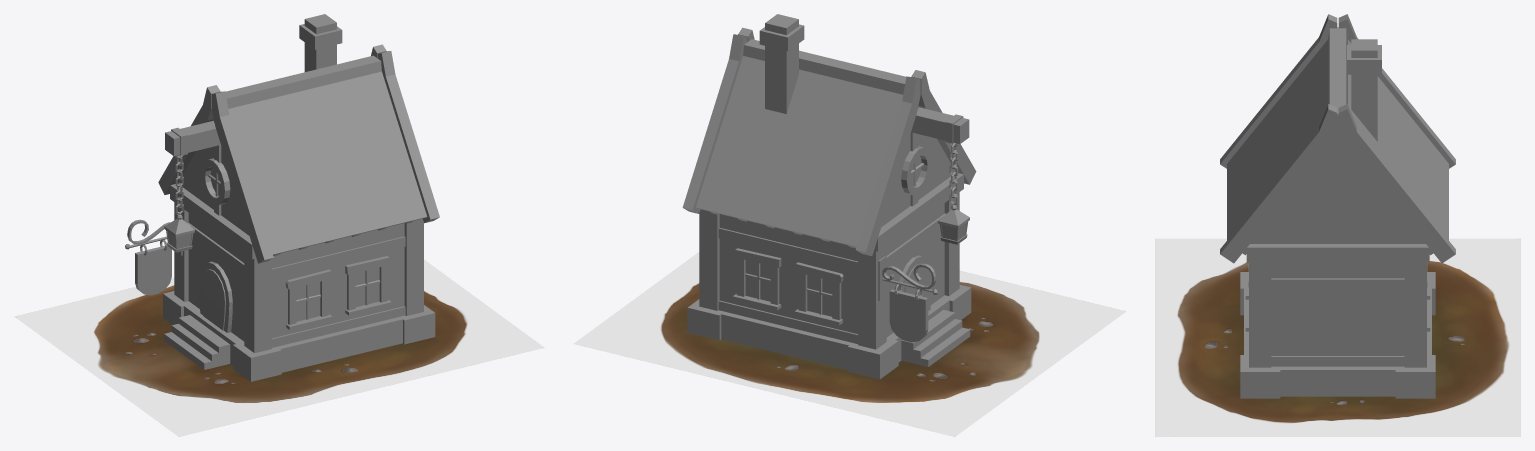
File: Low_poly_house.obj
3 views of the same model, side by side, from view 1: azimuth 30°, elevation 25°; view 2: azimuth 150°, elevation 25°; view 3: azimuth 270°, elevation 25° (orthographic). The views are drawn at different scales.
Visible parts, largest first — view 1: ground, 03_krisha, 00_steni, 32_fundament, 02_stolby_krisha, 01_stolbi, 15_balki_goriz_2, 14_balki_goriz, 31_lestnica, 04_krisha_bok, 25_viveska, 17_rama_okno_goriz (+8 smaller); view 2: ground, 03_krisha, 00_steni, 32_fundament, 02_stolby_krisha, 01_stolbi, 15_balki_goriz_2, 14_balki_goriz, 08_truba, 31_lestnica, 04_krisha_bok, 25_viveska (+7 smaller); view 3: ground, 03_krisha, 00_steni, 02_stolby_krisha, 04_krisha_bok, 32_fundament, 14_balki_goriz, 01_stolbi, 08_truba, 09_truba_1, 17_rama_okno_goriz.
Part boxes in pixels (box(x1,y1,x2,y2)): ground: box(14, 259, 544, 436); 03_krisha: box(225, 55, 427, 254); 00_steni: box(188, 213, 404, 341); 32_fundament: box(163, 291, 435, 381); 02_stolby_krisha: box(158, 44, 439, 263); 01_stolbi: box(174, 202, 423, 353); 15_balki_goriz_2: box(272, 236, 405, 347); 14_balki_goriz: box(170, 184, 256, 274); 31_lestnica: box(164, 315, 230, 369); 04_krisha_bok: box(178, 146, 249, 235); 25_viveska: box(135, 245, 171, 295); 17_rama_okno_goriz: box(285, 256, 391, 329); ground: box(574, 252, 1125, 436); 03_krisha: box(696, 39, 906, 247); 00_steni: box(719, 203, 944, 337); 32_fundament: box(687, 285, 971, 379); 02_stolby_krisha: box(682, 27, 976, 256); 01_stolbi: box(699, 192, 959, 349); 15_balki_goriz_2: box(718, 227, 857, 343); 14_balki_goriz: box(874, 173, 963, 266); 08_truba: box(765, 14, 798, 113); 31_lestnica: box(901, 310, 970, 366); 04_krisha_bok: box(881, 134, 955, 226); 25_viveska: box(889, 289, 928, 342); ground: box(1155, 238, 1520, 436); 03_krisha: box(1227, 27, 1448, 240); 00_steni: box(1271, 263, 1404, 355); 02_stolby_krisha: box(1220, 14, 1455, 263); 04_krisha_bok: box(1245, 114, 1430, 249); 32_fundament: box(1240, 272, 1435, 398); 14_balki_goriz: box(1246, 244, 1429, 366); 01_stolbi: box(1249, 263, 1426, 367); 08_truba: box(1351, 39, 1377, 141); 09_truba_1: box(1347, 45, 1381, 74); 17_rama_okno_goriz: box(1245, 263, 1430, 331).
Bounding box in the file's own units: 137 × 104 × 107.
